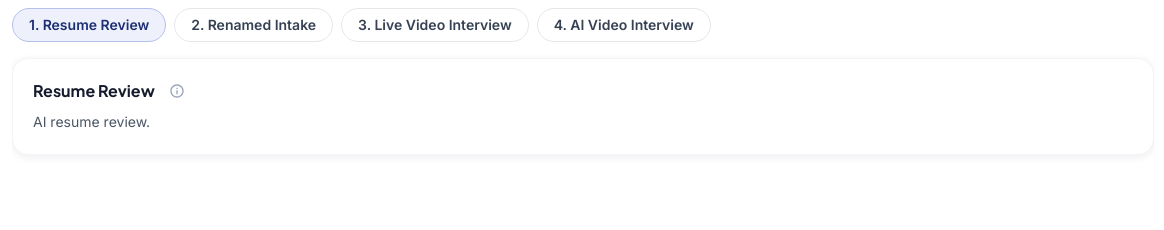
Test: ViewInterviewRounds › shows the database variant label for the AI Video round
Click the button "4. AI Video Interview" at point(624, 25), box [537,8,711,42]
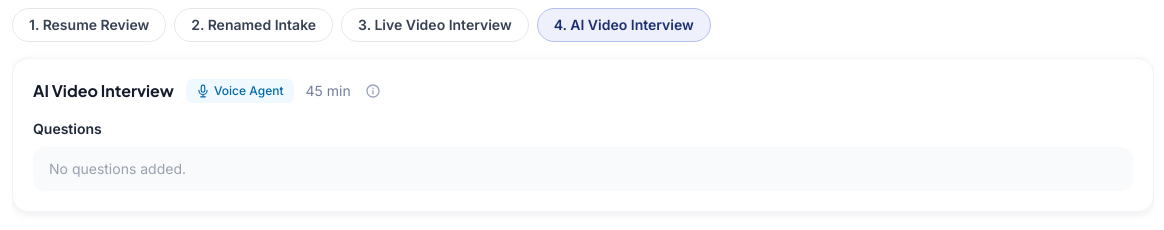
Check: the text "Voice Agent" is shown, box [186,79,294,103]
